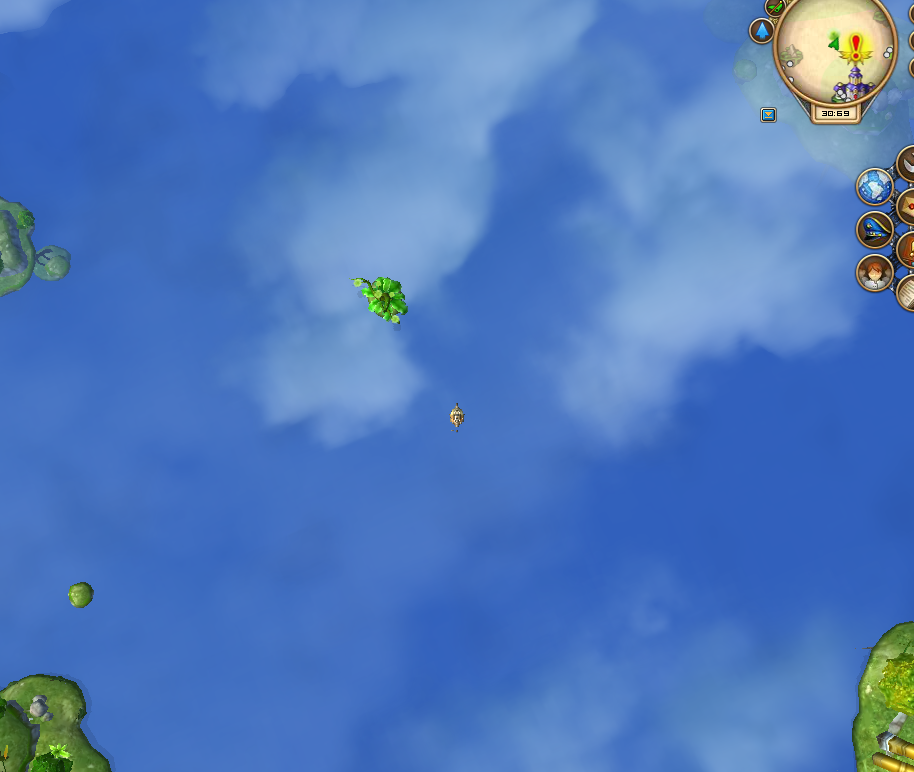dandelion-full: (351, 268, 415, 334)
